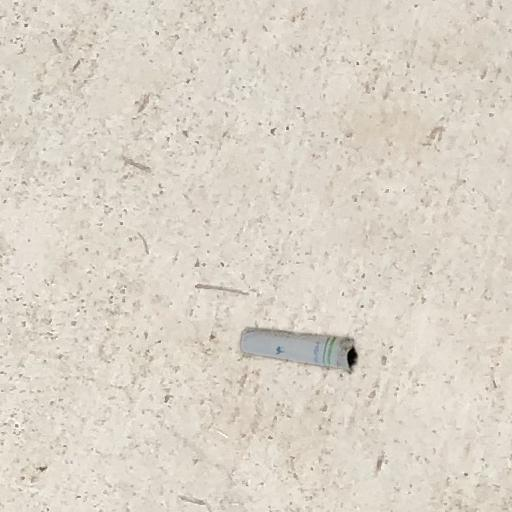smoke: (242, 329, 357, 369)
